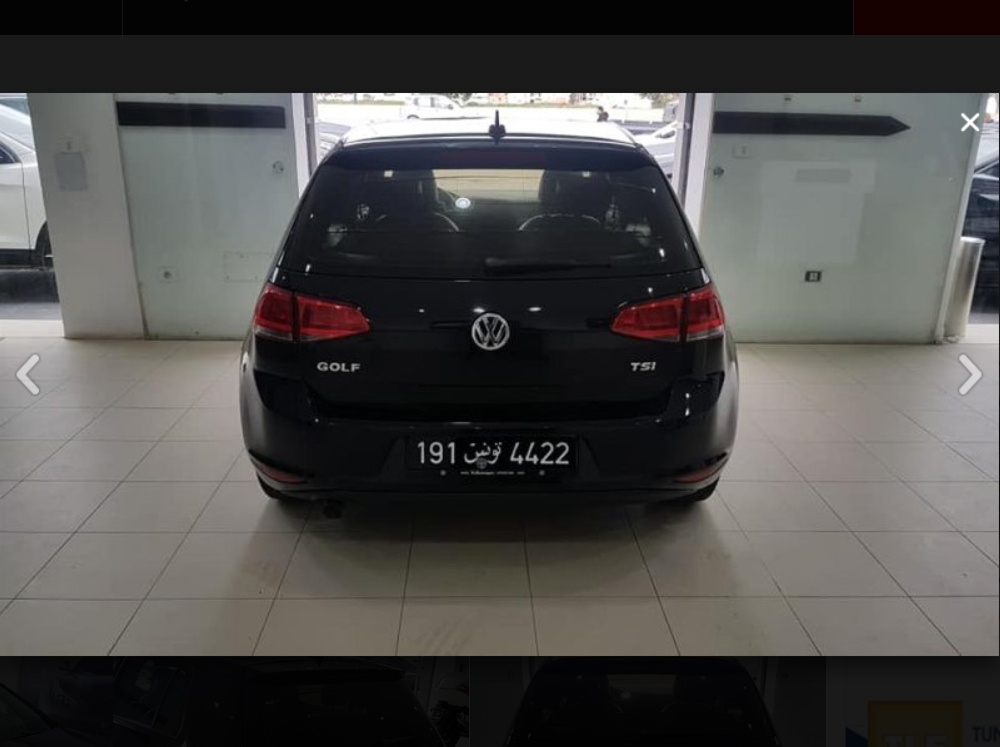LP: (403, 432, 585, 474)
